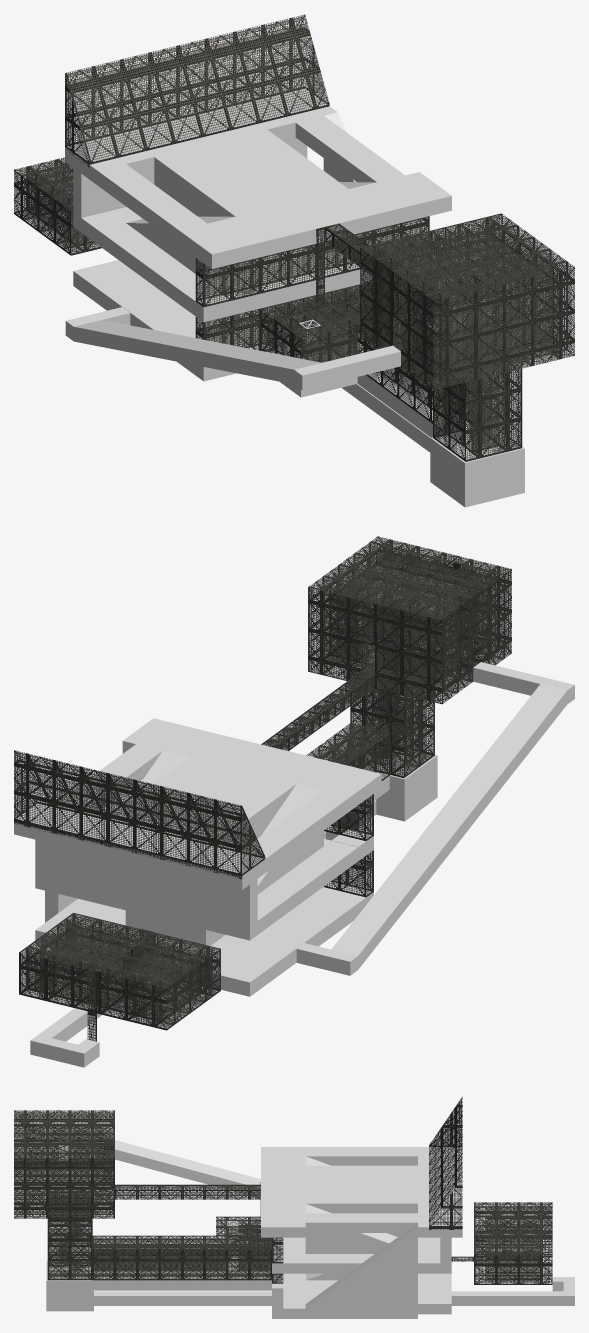
Rendered from Hoejhus.fbx.
The picture shows the model from 3 angles, top to bottom: view 1: azimuth 30°, elevation 25°; view 2: azimuth 150°, elevation 25°; view 3: azimuth 270°, elevation 25°; orthographic projection. The views are drawn at different scales.
Parts seen in each view (by area): view 1: worldspawn_0_483, worldspawn_0_630, worldspawn_0_490, worldspawn_0_63, worldspawn_0_98, worldspawn_0_56, worldspawn_0_658, worldspawn_0_357, worldspawn_0_77, worldspawn_0_1, worldspawn_0_637, worldspawn_0_14 (+36 smaller); view 2: worldspawn_0_483, worldspawn_0_357, worldspawn_0_1, worldspawn_0_476, worldspawn_0_434, worldspawn_0_63, worldspawn_0_490, worldspawn_0_77, worldspawn_0_56, worldspawn_0_658, worldspawn_0_567, worldspawn_0_616 (+36 smaller); view 3: worldspawn_0_623, worldspawn_0_210, worldspawn_0_273, worldspawn_0_490, worldspawn_0_511, worldspawn_0_63, worldspawn_0_483, worldspawn_0_77, worldspawn_0_231, worldspawn_0_357, worldspawn_0_56, worldspawn_0_161 (+36 smaller).
Part boxes in pixels (left/top/right/bottom): worldspawn_0_483: left=65, top=14, right=329, bottom=167; worldspawn_0_630: left=439, top=264, right=560, bottom=386; worldspawn_0_490: left=154, top=129, right=348, bottom=216; worldspawn_0_63: left=208, top=172, right=451, bottom=262; worldspawn_0_98: left=195, top=216, right=429, bottom=307; worldspawn_0_56: left=65, top=140, right=240, bottom=268; worldspawn_0_658: left=382, top=223, right=544, bottom=299; worldspawn_0_357: left=74, top=320, right=321, bottom=384; worldspawn_0_77: left=95, top=88, right=337, bottom=174; worldspawn_0_1: left=73, top=248, right=427, bottom=381; worldspawn_0_637: left=401, top=274, right=447, bottom=389; worldspawn_0_14: left=97, top=223, right=256, bottom=309; worldspawn_0_483: left=14, top=750, right=265, bottom=879; worldspawn_0_357: left=331, top=684, right=567, bottom=969; worldspawn_0_1: left=35, top=882, right=373, bottom=996; worldspawn_0_476: left=35, top=839, right=257, bottom=926; worldspawn_0_434: left=19, top=947, right=160, bottom=1026; worldspawn_0_63: left=122, top=718, right=354, bottom=789; worldspawn_0_490: left=113, top=757, right=296, bottom=843; worldspawn_0_77: left=14, top=797, right=238, bottom=883; worldspawn_0_56: left=215, top=767, right=381, bottom=889; worldspawn_0_658: left=329, top=551, right=482, bottom=622; worldspawn_0_567: left=375, top=598, right=436, bottom=686; worldspawn_0_616: left=429, top=594, right=473, bottom=704; worldspawn_0_623: left=14, top=1153, right=114, bottom=1218; worldspawn_0_210: left=92, top=1245, right=271, bottom=1280; worldspawn_0_273: left=305, top=1223, right=417, bottom=1318; worldspawn_0_490: left=305, top=1165, right=417, bottom=1213; worldspawn_0_511: left=94, top=1291, right=574, bottom=1305; worldspawn_0_63: left=261, top=1156, right=305, bottom=1237; worldspawn_0_483: left=429, top=1096, right=462, bottom=1229; worldspawn_0_77: left=418, top=1156, right=462, bottom=1237; worldspawn_0_231: left=47, top=1205, right=92, bottom=1280; worldspawn_0_357: left=72, top=1129, right=260, bottom=1198; worldspawn_0_56: left=261, top=1147, right=462, bottom=1165; worldspawn_0_161: left=72, top=1266, right=271, bottom=1290.
Size of the model in its own units: 3200 by 1344 by 1024.
15 materials, 8 textured.
